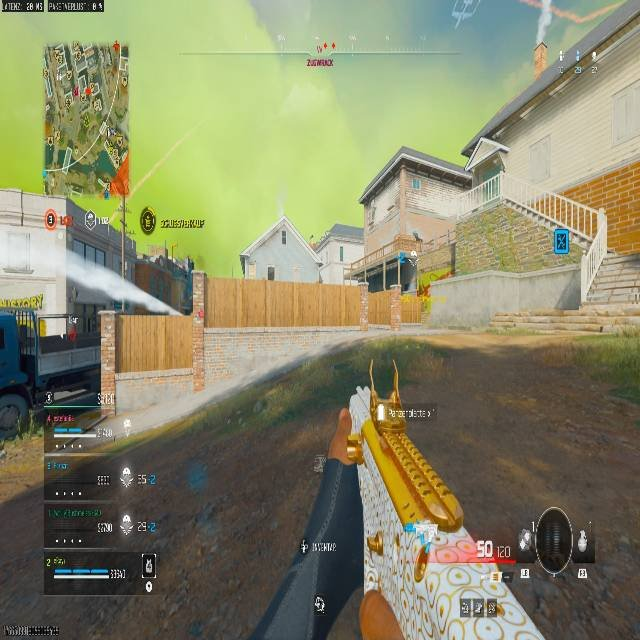player: (132, 247, 203, 319)
